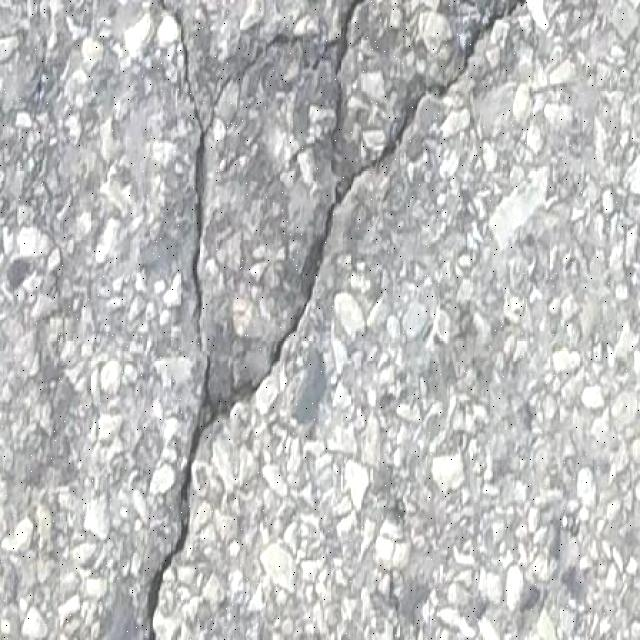Crack: (272, 75, 454, 368), (184, 0, 369, 238), (144, 370, 268, 639), (455, 0, 529, 74), (156, 0, 184, 23)
